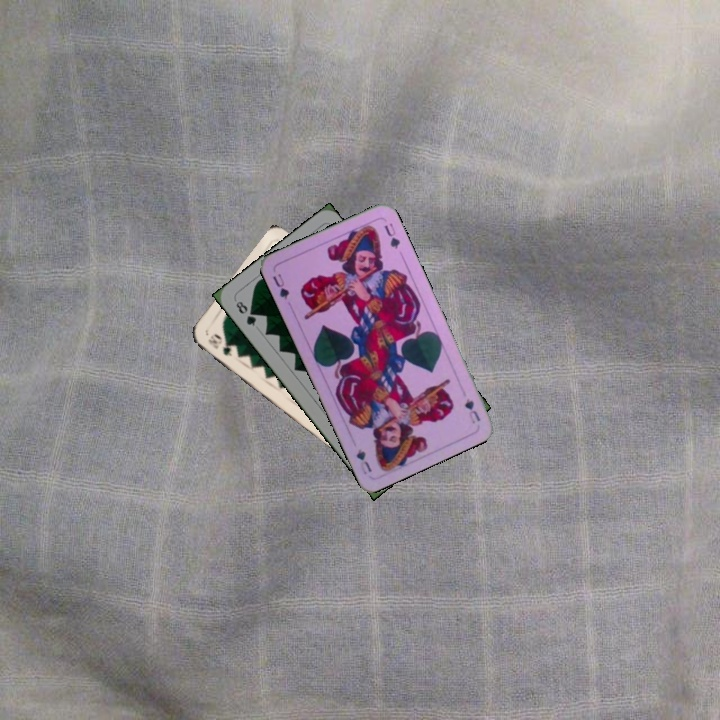G10: (204, 330, 235, 359)
G8: (232, 297, 259, 329)
GU: (269, 269, 292, 302), (461, 394, 483, 426)
